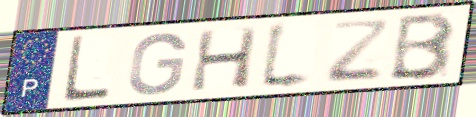B: (386, 11, 458, 82)
G: (125, 31, 189, 98)
H: (188, 25, 261, 94)
L: (256, 18, 315, 93), (60, 34, 112, 105)
Z: (323, 19, 393, 85)
